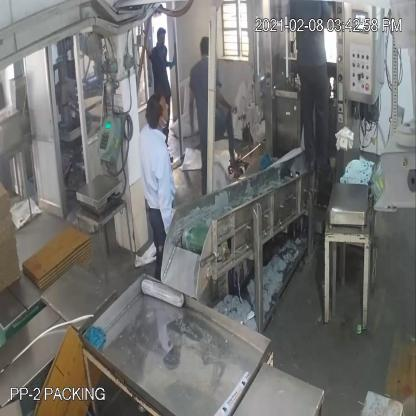no_glove: (156, 146, 178, 236), (187, 82, 198, 144)
